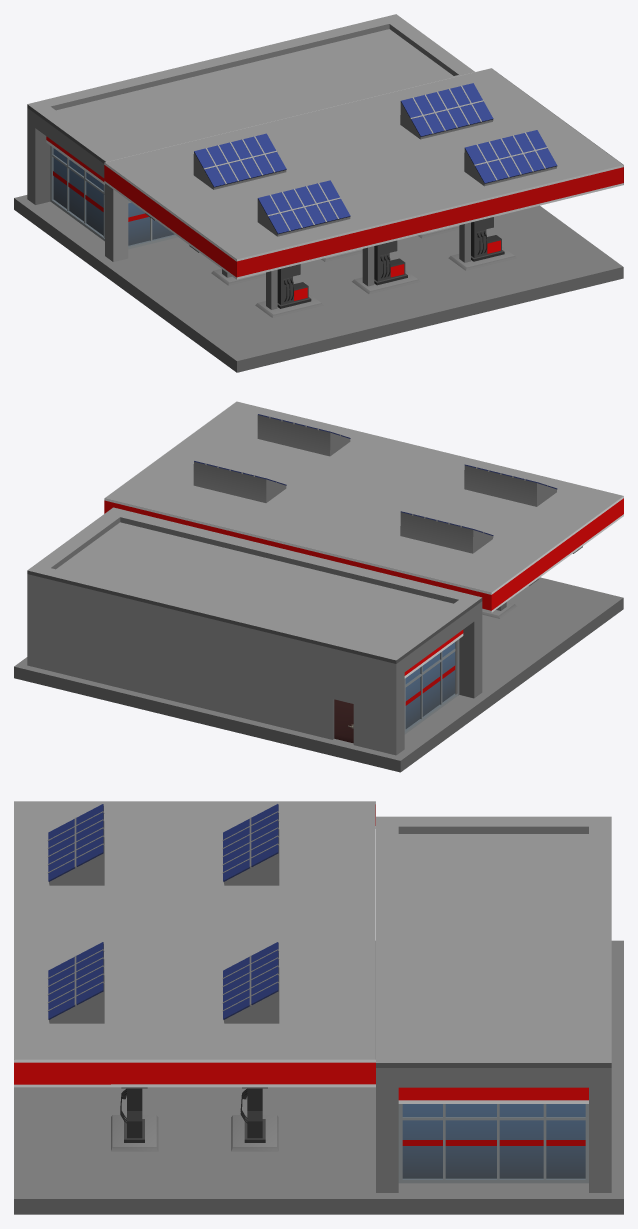
Rendered from buildings-business-gasstation_v1.glb.
3 views of the same model, one above another, from view 1: azimuth 30°, elevation 25°; view 2: azimuth 150°, elevation 25°; view 3: azimuth 270°, elevation 25° (orthographic). The views are drawn at different scales.
Parts seen in each view (by area): view 1: GasStation_base, GasStation_refl5, GasStation_light, GasStation_windowRefl; view 2: GasStation_base, GasStation_light, GasStation_windowRefl, GasStation_refl5; view 3: GasStation_base, GasStation_light, GasStation_windowRefl, GasStation_refl5.
Boxes of the visible parts, x1,y1,x2,y2 form: GasStation_base: (14, 14, 623, 372); GasStation_refl5: (194, 83, 557, 234); GasStation_light: (46, 68, 623, 300); GasStation_windowRefl: (53, 148, 174, 245); GasStation_base: (14, 401, 623, 772); GasStation_light: (104, 401, 623, 678); GasStation_windowRefl: (405, 642, 455, 728); GasStation_refl5: (194, 414, 557, 728); GasStation_base: (14, 801, 623, 1214); GasStation_light: (14, 801, 588, 1103); GasStation_windowRefl: (402, 1104, 585, 1178); GasStation_refl5: (48, 804, 278, 1019).
Size of the model in its own units: 23.4 by 7.98 by 23.33.
